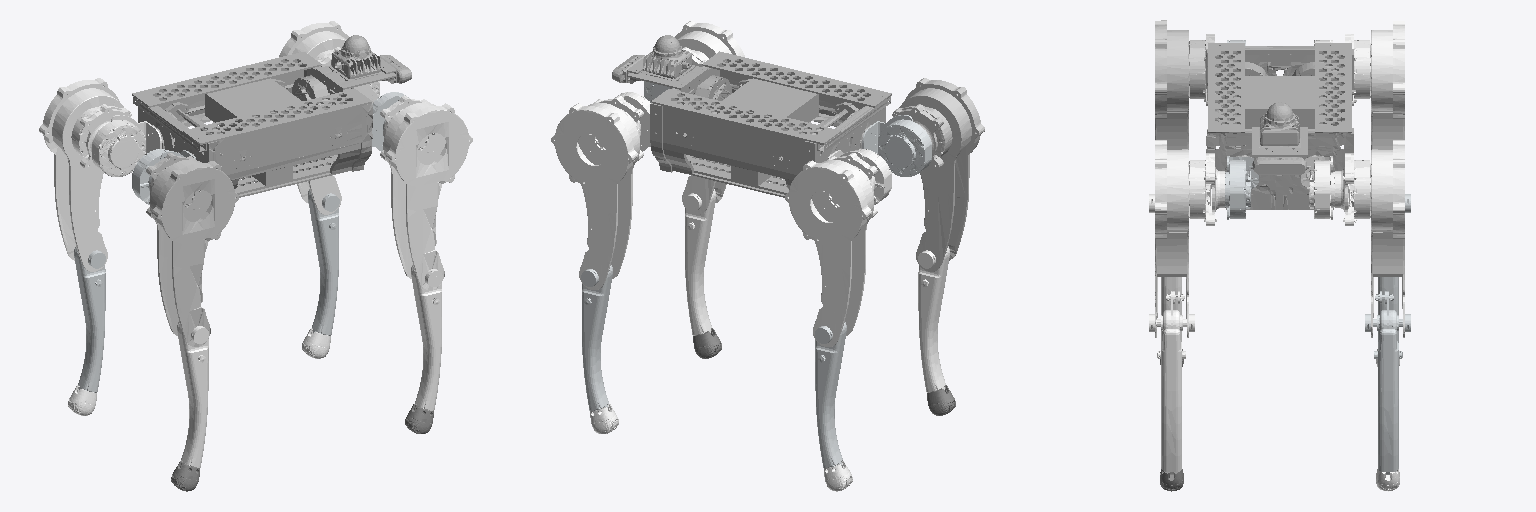
URDF robot description (wblwbl_dog):
<?xml version="1.0" encoding="utf-8"?>
<!-- This URDF was automatically created by SolidWorks to URDF Exporter! Originally created by Stephen Brawner (brawner@gmail.com) 
     Commit Version: 1.6.0-4-g7f85cfe  Build Version: 1.6.7995.38578
     For more information, please see http://wiki.ros.org/sw_urdf_exporter -->
<robot
  name="wblwbl_dog">
  <link
    name="base_link">
    <inertial>
      <origin
        xyz="0.01584611 -0.0003021 0.00277104"
        rpy="0 0 0" />
      <mass
        value="5.85747708" />
      <inertia
        ixx="0.02258183"
        ixy="2.486E-05"
        ixz="-0.00737298"
        iyy="0.10660366"
        iyz="1.041E-05"
        izz="0.11703202" />
    </inertial>
    <visual>
      <origin
        xyz="0 0 0"
        rpy="0 0 0" />
      <geometry>
        <mesh
          filename="../meshes/base_link.STL" />
      </geometry>
      <material
        name="">
        <color
          rgba="0.75294 0.75294 0.75294 1" />
      </material>
    </visual>
    <collision>
      <origin xyz="0 0 0" rpy="0 0 0" />
      <geometry>
        <box size="0.326 0.24 0.141" />
      </geometry>
    </collision>
  </link>
  <link
    name="RR_hip">
    <inertial>
      <origin
        xyz="-0.05994588 -0.01105683 -5.246E-05"
        rpy="0 0 0" />
      <mass
        value="0.58642659" />
      <inertia
        ixx="0.00039317"
        ixy="-1.51E-06"
        ixz="-1.08E-06"
        iyy="0.00074555"
        iyz="3.9E-07"
        izz="0.00046647" />
    </inertial>
    <visual>
      <origin
        xyz="0 0 0"
        rpy="0 0 0" />
      <geometry>
        <mesh
          filename="../meshes/RR_hip.STL" />
      </geometry>
      <material
        name="">
        <color
          rgba="0.89804 0.91765 0.92941 1" />
      </material>
    </visual>
  </link>
  <joint
    name="RR_hip_joint"
    type="revolute">
    <origin
      xyz="-0.166597524198868 -0.0600124680627662 -0.00150293992375414"
      rpy="0 0 0" />
    <parent
      link="base_link" />
    <child
      link="RR_hip" />
    <axis
      xyz="1 0 0" />
    <limit
      lower="-1.047197551197"
      upper="1.047197551197"
      effort="23.7"
      velocity="30" />
  </joint>
  <link
    name="RR_thigh">
    <inertial>
      <origin
        xyz="-0.00025108 0.00407954 -0.01846757"
        rpy="0 0 0" />
      <mass
        value="1.61753768" />
      <inertia
        ixx="0.00849013"
        ixy="7.54E-06"
        ixz="-0.00026516"
        iyy="0.00837118"
        iyz="-0.0007094"
        izz="0.00331292" />
    </inertial>
    <visual>
      <origin
        xyz="0 0 0"
        rpy="0 0 0" />
      <geometry>
        <mesh
          filename="../meshes/RR_thigh.STL" />
      </geometry>
      <material
        name="">
        <color
          rgba="0.84706 0.84706 0.84706 1" />
      </material>
    </visual>
    <collision>
      <origin xyz="0 -0.01145 -0.120006615" rpy="0 0 0" />
      <geometry>
        <box size="0.055 0.055 0.24" />
      </geometry>
    </collision>
  </link>
  <joint
    name="RR_thigh_joint"
    type="revolute">
    <origin
      xyz="-0.0642509054078564 -0.0953879542436499 1.87606477012603E-05"
      rpy="0 0 0" />
    <parent
      link="RR_hip" />
    <child
      link="RR_thigh" />
    <axis
      xyz="0 1 0" />
    <limit
      lower="-1.047197551197"
      upper="2.094395102393"
      effort="23.7"
      velocity="30" />
  </joint>
  <link
    name="RR_calf">
    <inertial>
      <origin
        xyz="0.00619037 0.00215666 -0.06686682"
        rpy="0 0 0" />
      <mass
        value="0.46592672" />
      <inertia
        ixx="0.00323637"
        ixy="9.8E-07"
        ixz="0.00012219"
        iyy="0.00324876"
        iyz="-7.98E-06"
        izz="0.00013713" />
    </inertial>
    <visual>
      <origin
        xyz="0 0 0"
        rpy="0 0 0" />
      <geometry>
        <mesh
          filename="../meshes/RR_calf.STL" />
      </geometry>
      <material
        name="">
        <color
          rgba="1 1 1 1" />
      </material>
    </visual>
    <collision>
      <origin xyz="-0.002326652 0.000946323 -0.133769394" rpy="0 0 0" />
      <geometry>
        <box size="0.034 0.034 0.262414" />
      </geometry>
    </collision>
  </link>
  <joint
    name="RR_calf_joint"
    type="revolute">
    <origin
      xyz="0 -0.0228999999999976 -0.240013230714059"
      rpy="0 0 0" />
    <parent
      link="RR_thigh" />
    <child
      link="RR_calf" />
    <axis
      xyz="0 1 0" />
    <limit
      lower="-2.775073510671"
      upper="0"
      effort="23.7"
      velocity="30" />
  </joint>
  <link
    name="RR_foot">
    <inertial>
      <origin
        xyz="-0.00614113 0.00019183 -0.01441826"
        rpy="0 0 0" />
      <mass
        value="0.056" />
      <inertia
        ixx="1.151E-05"
        ixy="-5E-08"
        ixz="1.1E-07"
        iyy="1.254E-05"
        iyz="-7E-08"
        izz="1.19E-05" />
    </inertial>
    <visual>
      <origin
        xyz="0 0 0"
        rpy="0 0 0" />
      <geometry>
        <mesh
          filename="../meshes/RR_foot.STL" />
      </geometry>
      <material
        name="">
        <color
          rgba="0.60392 0.60392 0.60392 1" />
      </material>
    </visual>
    <collision>
      <origin xyz="-0.005338821 0.000165131 -0.011726653" rpy="0 0 0" />
      <geometry>
        <sphere radius="0.023799986" />
      </geometry>
    </collision>
  </link>
  <joint
    name="RR_foot_joint"
    type="fixed" dont_collapse="true">
    <origin
      xyz="-0.00465330444584544 0.00189264586376695 -0.267538787010701"
      rpy="0 0 0" />
    <parent
      link="RR_calf" />
    <child
      link="RR_foot" />
  </joint>
  <link
    name="RL_hip">
    <inertial>
      <origin
        xyz="-0.05994581 0.01106056 -4.797E-05"
        rpy="0 0 0" />
      <mass
        value="0.58642659" />
      <inertia
        ixx="0.00039317"
        ixy="1.51E-06"
        ixz="-1.08E-06"
        iyy="0.00074555"
        iyz="-3.9E-07"
        izz="0.00046647" />
    </inertial>
    <visual>
      <origin
        xyz="0 0 0"
        rpy="0 0 0" />
      <geometry>
        <mesh
          filename="../meshes/RL_hip.STL" />
      </geometry>
      <material
        name="">
        <color
          rgba="1 1 1 1" />
      </material>
    </visual>
  </link>
  <joint
    name="RL_hip_joint"
    type="revolute">
    <origin
      xyz="-0.166597524198868 0.0600079051697488 -0.00150736560215664"
      rpy="0 0 0" />
    <parent
      link="base_link" />
    <child
      link="RL_hip" />
    <axis
      xyz="1 0 0" />
    <limit
      lower="-1.047197551197"
      upper="1.047197551197"
      effort="23.7"
      velocity="30" />
  </joint>
  <link
    name="RL_thigh">
    <inertial>
      <origin
        xyz="-0.00025671 -0.00407953 -0.01846638"
        rpy="0 0 0" />
      <mass
        value="1.61753764" />
      <inertia
        ixx="0.00849013"
        ixy="-7.54E-06"
        ixz="-0.00026516"
        iyy="0.00837118"
        iyz="0.0007094"
        izz="0.00331292" />
    </inertial>
    <visual>
      <origin
        xyz="0 0 0"
        rpy="0 0 0" />
      <geometry>
        <mesh
          filename="../meshes/RL_thigh.STL" />
      </geometry>
      <material
        name="">
        <color
          rgba="1 1 1 1" />
      </material>
    </visual>
    <collision>
      <origin xyz="0 0.01145 -0.120006017" rpy="0 0 0" />
      <geometry>
        <box size="0.055 0.055 0.24" />
      </geometry>
    </collision>
  </link>
  <joint
    name="RL_thigh_joint"
    type="revolute">
    <origin
      xyz="-0.0642452502913322 0.0953916725238376 2.19897083813536E-05"
      rpy="0 0 0" />
    <parent
      link="RL_hip" />
    <child
      link="RL_thigh" />
    <axis
      xyz="0 1 0" />
    <limit
      lower="-1.047197551197"
      upper="2.094395102393"
      effort="23.7"
      velocity="30" />
  </joint>
  <link
    name="RL_calf">
    <inertial>
      <origin
        xyz="0.00619037 -0.00215672 -0.06686682"
        rpy="0 0 0" />
      <mass
        value="0.46592672" />
      <inertia
        ixx="0.00323637"
        ixy="-9.8E-07"
        ixz="0.00012219"
        iyy="0.00324876"
        iyz="7.97E-06"
        izz="0.00013713" />
    </inertial>
    <visual>
      <origin
        xyz="0 0 0"
        rpy="0 0 0" />
      <geometry>
        <mesh
          filename="../meshes/RL_calf.STL" />
      </geometry>
      <material
        name="">
        <color
          rgba="0.89804 0.91765 0.92941 1" />
      </material>
    </visual>
    <collision>
      <origin xyz="-0.002326652 -0.000946323 -0.133769394" rpy="0 0 0" />
      <geometry>
        <box size="0.034 0.034 0.262414" />
      </geometry>
    </collision>
  </link>
  <joint
    name="RL_calf_joint"
    type="revolute">
    <origin
      xyz="0 0.022899999999998 -0.240012034096337"
      rpy="0 0 0" />
    <parent
      link="RL_thigh" />
    <child
      link="RL_calf" />
    <axis
      xyz="0 1 0" />
    <limit
      lower="-2.775073510671"
      upper="0"
      effort="23.7"
      velocity="30" />
  </joint>
  <link
    name="RL_foot">
    <inertial>
      <origin
        xyz="-0.0061412 -0.00019183 -0.01441798"
        rpy="0 0 0" />
      <mass
        value="0.056" />
      <inertia
        ixx="1.151E-05"
        ixy="5E-08"
        ixz="1.1E-07"
        iyy="1.254E-05"
        iyz="7E-08"
        izz="1.19E-05" />
    </inertial>
    <visual>
      <origin
        xyz="0 0 0"
        rpy="0 0 0" />
      <geometry>
        <mesh
          filename="../meshes/RL_foot.STL" />
      </geometry>
      <material
        name="">
        <color
          rgba="1 1 1 1" />
      </material>
    </visual>
    <collision>
      <origin xyz="-0.005338891 -0.000165131 -0.011726373" rpy="0 0 0" />
      <geometry>
        <sphere radius="0.023799986" />
      </geometry>
    </collision>
  </link>
  <joint
    name="RL_foot_joint"
    type="fixed" dont_collapse="true">
    <origin
      xyz="-0.004653304445846 -0.00189264586376695 -0.267538787010701"
      rpy="0 0 0" />
    <parent
      link="RL_calf" />
    <child
      link="RL_foot" />
  </joint>
  <link
    name="FR_hip">
    <inertial>
      <origin
        xyz="0.060123 -0.011059 -4.911E-05"
        rpy="0 0 0" />
      <mass
        value="0.58627" />
      <inertia
        ixx="0.00039317"
        ixy="6E-08"
        ixz="-7.9E-07"
        iyy="0.00074643"
        iyz="3.9E-07"
        izz="0.00046735" />
    </inertial>
    <visual>
      <origin
        xyz="0 0 0"
        rpy="0 0 0" />
      <geometry>
        <mesh
          filename="../meshes/FR_hip.STL" />
      </geometry>
      <material
        name="">
        <color
          rgba="0.89804 0.91765 0.92941 1" />
      </material>
    </visual>
  </link>
  <joint
    name="FR_hip_joint"
    type="revolute">
    <origin
      xyz="0.166602475801132 -0.0600102636860087 -0.00150628848434514"
      rpy="0 0 0" />
    <parent
      link="base_link" />
    <child
      link="FR_hip" />
    <axis
      xyz="1 0 0" />
    <limit
      lower="-1.047197551197"
      upper="1.047197551197"
      effort="23.7"
      velocity="30" />
  </joint>
  <link
    name="FR_thigh">
    <inertial>
      <origin
        xyz="-0.00027349 0.00407954 -0.01847084"
        rpy="0 0 0" />
      <mass
        value="1.61753768" />
      <inertia
        ixx="0.00848978"
        ixy="7.33E-06"
        ixz="-0.00026395"
        iyy="0.00837097"
        iyz="-0.00070943"
        izz="0.00331306" />
    </inertial>
    <visual>
      <origin
        xyz="0 0 0"
        rpy="0 0 0" />
      <geometry>
        <mesh
          filename="../meshes/FR_thigh.STL" />
      </geometry>
      <material
        name="">
        <color
          rgba="1 1 1 1" />
      </material>
    </visual>
    <collision>
      <origin xyz="-0.003713474 -0.00895 -0.120006017" rpy="0 0 0" />
      <geometry>
        <box size="0.055 0.055 0.24" />
      </geometry>
    </collision>
  </link>
  <joint
    name="FR_thigh_joint"
    type="revolute">
    <origin
      xyz="0.0642493196996376 -0.095390158620402 2.21092082921814E-05"
      rpy="0 0 0" />
    <parent
      link="FR_hip" />
    <child
      link="FR_thigh" />
    <axis
      xyz="0 1 0" />
    <limit
      lower="-1.047197551197"
      upper="2.094395102393"
      effort="23.7"
      velocity="30" />
  </joint>
  <link
    name="FR_calf">
    <inertial>
      <origin
        xyz="0.01361308 -0.00284334 -0.066869062143977"
        rpy="0 0 0" />
      <mass
        value="0.46592672" />
      <inertia
        ixx="0.00323633"
        ixy="9.9E-07"
        ixz="0.00012232"
        iyy="0.00324875"
        iyz="-7.97E-06"
        izz="0.00013716" />
    </inertial>
    <visual>
      <origin
        xyz="0 0 0.042352417856023"
        rpy="0 0 0" />
      <geometry>
        <mesh
          filename="../meshes/FR_calf.STL" />
      </geometry>
      <material
        name="">
        <color
          rgba="1 1 1 1" />
      </material>
    </visual>
    <collision>
      <origin xyz="0.002407328 0.00025 -0.131263924" rpy="0 0 0" />
      <geometry>
        <box size="0.034 0.034 0.262414" />
      </geometry>
    </collision>
  </link>
  <joint
    name="FR_calf_joint"
    type="revolute">
    <origin
      xyz="-0.0074269484586505 -0.0179000000000001 -0.240012034096336"
      rpy="0 0 0" />
    <parent
      link="FR_thigh" />
    <child
      link="FR_calf" />
    <axis
      xyz="0 1 0" />
    <limit
      lower="-2.775073510671"
      upper="0"
      effort="23.7"
      velocity="30" />
  </joint>
  <link
    name="FR_foot">
    <inertial>
      <origin
        xyz="-0.0081453 -0.003308 -0.019426"
        rpy="0 0 0" />
      <mass
        value="0.056" />
      <inertia
        ixx="1.151E-05"
        ixy="-5E-08"
        ixz="1.1E-07"
        iyy="1.254E-05"
        iyz="-7E-08"
        izz="1.19E-05" />
    </inertial>
    <visual>
      <origin
        xyz="0 0 0"
        rpy="0 0 0" />
      <geometry>
        <mesh
          filename="../meshes/FR_foot.STL" />
      </geometry>
      <material
        name="">
        <color
          rgba="0.60392 0.60392 0.60392 1" />
      </material>
    </visual>
    <collision>
      <origin xyz="-0.007342991 -0.003334699 -0.016734393" rpy="0 0 0" />
      <geometry>
        <sphere radius="0.023799986" />
      </geometry>
    </collision>
  </link>
  <joint
    name="FR_foot_joint"
    type="fixed" dont_collapse="true">
    <origin
      xyz="0.00481465547766746 0.000499999999998502 -0.262527848704746"
      rpy="0 0 0" />
    <parent
      link="FR_calf" />
    <child
      link="FR_foot" />
  </joint>
  <link
    name="FL_hip">
    <inertial>
      <origin
        xyz="0.060123 0.011056 -5.421E-05"
        rpy="0 0 0" />
      <mass
        value="0.58643" />
      <inertia
        ixx="0.00039317"
        ixy="-6E-08"
        ixz="-7.9E-07"
        iyy="0.00074642"
        iyz="-3.9E-07"
        izz="0.00046734" />
    </inertial>
    <visual>
      <origin
        xyz="0 0 0"
        rpy="0 0 0" />
      <geometry>
        <mesh
          filename="../meshes/FL_hip.STL" />
      </geometry>
      <material
        name="">
        <color
          rgba="1 1 1 1" />
      </material>
    </visual>
  </link>
  <joint
    name="FL_hip_joint"
    type="revolute">
    <origin
      xyz="0.166602475801132 0.0600120143599638 -0.00150112353289886"
      rpy="0 0 0" />
    <parent
      link="base_link" />
    <child
      link="FL_hip" />
    <axis
      xyz="1 0 0" />
    <limit
      lower="-1.047197551197"
      upper="1.047197551197"
      effort="23.7"
      velocity="30" />
  </joint>
  <link
    name="FL_thigh">
    <inertial>
      <origin
        xyz="-0.00027617 -0.00408799 -0.01849477"
        rpy="0 0 0" />
      <mass
        value="1.6175" />
      <inertia
        ixx="0.00848702"
        ixy="-7.43E-06"
        ixz="-0.00026425"
        iyy="0.00836845"
        iyz="0.00071026"
        izz="0.00331274" />
    </inertial>
    <visual>
      <origin
        xyz="0 0 0"
        rpy="0 0 0" />
      <geometry>
        <mesh
          filename="../meshes/FL_thigh.STL" />
      </geometry>
      <material
        name="">
        <color
          rgba="1 1 1 1" />
      </material>
    </visual>
    <collision>
      <origin xyz="0 0.01145 -0.120006017" rpy="0 0 0" />
      <geometry>
        <box size="0.055 0.055 0.24" />
      </geometry>
    </collision>
  </link>
  <joint
    name="FL_thigh_joint"
    type="revolute">
    <origin
      xyz="0.0642549748161616 0.0953875633336262 1.57476391230704E-05"
      rpy="0 0 0" />
    <parent
      link="FL_hip" />
    <child
      link="FL_thigh" />
    <axis
      xyz="0 1 0" />
    <limit
      lower="-1.047197551197"
      upper="2.094395102393"
      effort="23.7"
      velocity="30" />
  </joint>
  <link
    name="FL_calf">
    <inertial>
      <origin
        xyz="0.00618534 -0.00215672 -0.06686787"
        rpy="0 0 0" />
      <mass
        value="0.46592672" />
      <inertia
        ixx="0.00323633"
        ixy="-9.9E-07"
        ixz="0.00012232"
        iyy="0.00324875"
        iyz="7.96E-06"
        izz="0.00013716" />
    </inertial>
    <visual>
      <origin
        xyz="0 0 0"
        rpy="0 0 0" />
      <geometry>
        <mesh
          filename="../meshes/FL_calf.STL" />
      </geometry>
      <material
        name="">
        <color
          rgba="0.89804 0.91765 0.92941 1" />
      </material>
    </visual>
    <collision>
      <origin xyz="-0.002322748 -0.000999996 -0.133761044" rpy="0 0 0" />
      <geometry>
        <box size="0.034 0.034 0.262414" />
      </geometry>
    </collision>
  </link>
  <joint
    name="FL_calf_joint"
    type="revolute">
    <origin
      xyz="0 0.0229000000000002 -0.240012034096336"
      rpy="0 0 0" />
    <parent
      link="FL_thigh" />
    <child
      link="FL_calf" />
    <axis
      xyz="0 1 0" />
    <limit
      lower="-2.775073510671"
      upper="0"
      effort="23.7"
      velocity="30" />
  </joint>
  <link
    name="FL_foot">
    <inertial>
      <origin
        xyz="-0.0061199 -0.00019183 -0.01443"
        rpy="0 0 0" />
      <mass
        value="0.056" />
      <inertia
        ixx="1.151E-05"
        ixy="5E-08"
        ixz="1.1E-07"
        iyy="1.254E-05"
        iyz="7E-08"
        izz="1.19E-05" />
    </inertial>
    <visual>
      <origin
        xyz="0 0 0"
        rpy="0 0 0" />
      <geometry>
        <mesh
          filename="../meshes/FL_foot.STL" />
      </geometry>
      <material
        name="">
        <color
          rgba="1 1 1 1" />
      </material>
    </visual>
    <collision>
      <origin xyz="-0.005317591 -0.000165131 -0.011738393" rpy="0 0 0" />
      <geometry>
        <sphere radius="0.023799986" />
      </geometry>
    </collision>
  </link>
  <joint
    name="FL_foot_joint"
    type="fixed" dont_collapse="true">
    <origin
      xyz="-0.00464549524424704 -0.00199999112831351 -0.267522087098998"
      rpy="0 0 0" />
    <parent
      link="FL_calf" />
    <child
      link="FL_foot" />
  </joint>
</robot>

--- Facts derived from the render (not from the file) ---
Views: 3 orthographic renders of the robot side by side, from view 1: azimuth 30°, elevation 25°; view 2: azimuth 150°, elevation 25°; view 3: azimuth 270°, elevation 25°.
Robot: wblwbl_dog — 17 links, 16 joints (12 revolute, 4 fixed); root link base_link; default pose: every joint at zero.
Links seen in each view (by area): view 1: base_link, FR_thigh, RR_thigh, RL_thigh, RR_calf, RL_calf, RL_hip, FL_calf, FR_calf, FL_thigh, RR_hip, FR_hip (+4 smaller); view 2: base_link, FL_thigh, RL_thigh, RR_thigh, RL_calf, RR_hip, RR_calf, FR_calf, FL_calf, FR_thigh, RL_hip, FL_hip (+4 smaller); view 3: base_link, FL_thigh, FR_thigh, RR_thigh, RL_thigh, FR_calf, FL_calf, FL_hip, FR_hip, RR_calf, RL_calf.
Link boxes in pixels (x1,y1,x2,y2): base_link: (132,35,411,197); FR_thigh: (380,95,472,289); RR_thigh: (146,153,238,346); RL_thigh: (39,78,131,271); RR_calf: (177,322,208,467); RL_calf: (74,247,105,392); RL_hip: (92,115,161,176); FL_calf: (308,189,339,335); FR_calf: (411,265,442,410); FL_thigh: (279,21,348,214); RR_hip: (132,149,195,204); FR_hip: (372,92,408,151); base_link: (612,35,891,197); FL_thigh: (551,95,643,289); RL_thigh: (785,153,877,346); RR_thigh: (892,78,984,271); RL_calf: (815,322,846,467); RR_hip: (862,115,931,176); RR_calf: (918,246,949,392); FR_calf: (684,189,715,335); FL_calf: (581,265,612,410); FR_thigh: (675,21,744,214); RL_hip: (828,149,891,204); FL_hip: (615,92,650,151); base_link: (1206,43,1353,209); FL_thigh: (1335,140,1404,337); FR_thigh: (1155,140,1224,337); RR_thigh: (1155,20,1214,149); RL_thigh: (1345,21,1404,149); FR_calf: (1149,291,1194,474); FL_calf: (1365,291,1410,474); FL_hip: (1301,156,1334,219); FR_hip: (1225,156,1258,219); RR_calf: (1149,194,1181,342); RL_calf: (1378,194,1410,342).
Bounding box of the posed robot: 0.6223 × 0.4276 × 0.6812 m (x, y, z).
17 mesh visuals loaded from 17 distinct referenced files (17 binary STL).
